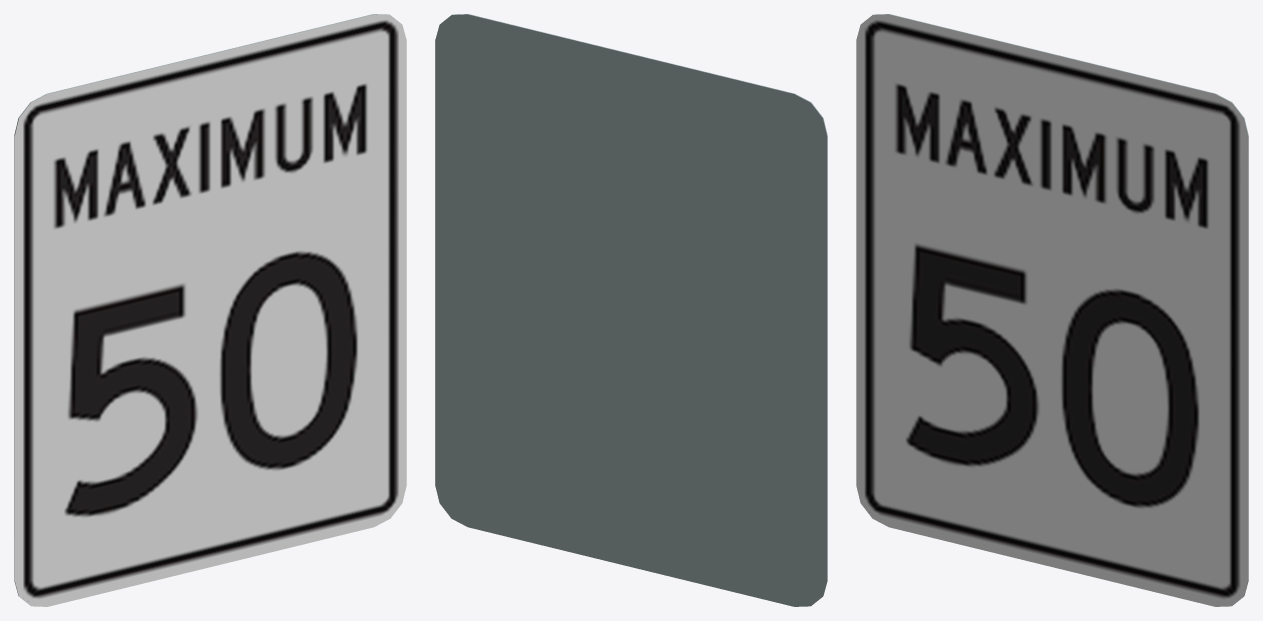
The model's file is max_50.fbx.
3 views of the same model, side by side, from view 1: azimuth 30°, elevation 25°; view 2: azimuth 150°, elevation 25°; view 3: azimuth 330°, elevation 25° (orthographic).
Visible parts, largest first — view 1: Cube; view 2: Cube; view 3: Cube.
Part boxes in pixels (x1=…): Cube: x1=14, y1=14, x2=406, y2=606; Cube: x1=435, y1=14, x2=827, y2=606; Cube: x1=856, y1=14, x2=1248, y2=606.
Bounding box in the file's own units: 60 × 75 × 0.16.
